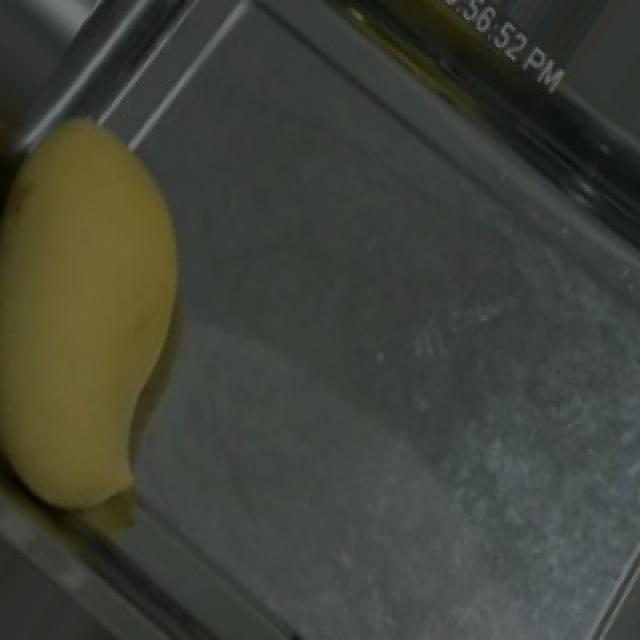fruit: (0, 82, 264, 479)
